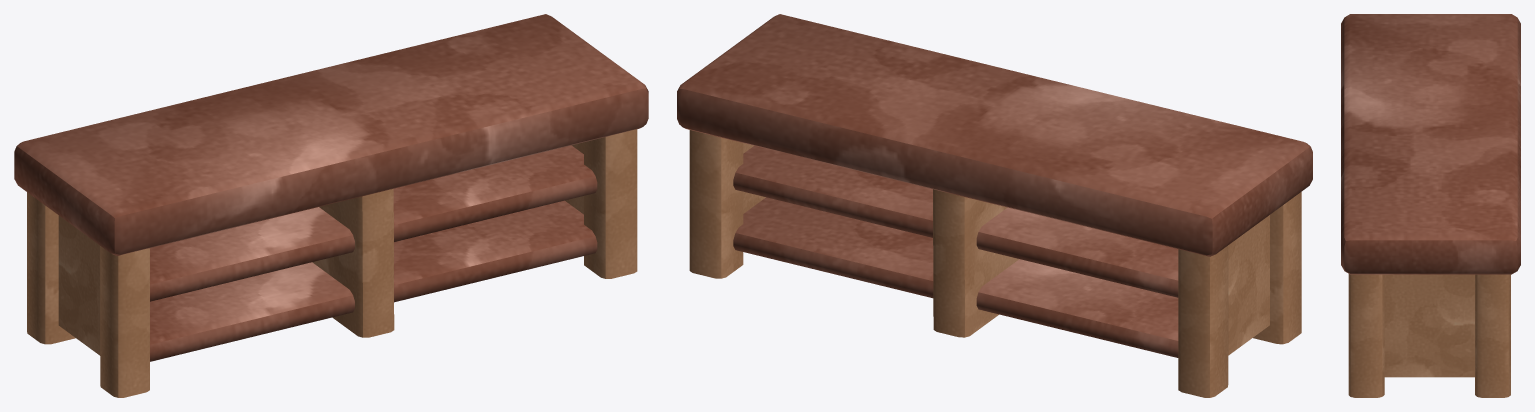
Rendered from SM_Table_Big.fbx.
3 views of the same model, side by side, from view 1: azimuth 30°, elevation 25°; view 2: azimuth 150°, elevation 25°; view 3: azimuth 270°, elevation 25° (orthographic). The views are drawn at different scales.
Visible parts, largest first — view 1: SM_Furniture_Large_02_pt1, SM_Furniture_Large_02_pt3, SM_Furniture_Large_02_pt2; view 2: SM_Furniture_Large_02_pt1, SM_Furniture_Large_02_pt3, SM_Furniture_Large_02_pt2; view 3: SM_Furniture_Large_02_pt3, SM_Furniture_Large_02_pt2, SM_Furniture_Large_02_pt1.
Boxes of the visible parts, bbox=[...] form: SM_Furniture_Large_02_pt1: bbox=[14, 99, 296, 397]; SM_Furniture_Large_02_pt3: bbox=[372, 14, 648, 286]; SM_Furniture_Large_02_pt2: bbox=[198, 56, 470, 337]; SM_Furniture_Large_02_pt1: bbox=[1030, 99, 1312, 397]; SM_Furniture_Large_02_pt3: bbox=[677, 14, 953, 283]; SM_Furniture_Large_02_pt2: bbox=[855, 56, 1128, 337]; SM_Furniture_Large_02_pt3: bbox=[1341, 161, 1520, 397]; SM_Furniture_Large_02_pt2: bbox=[1341, 87, 1520, 169]; SM_Furniture_Large_02_pt1: bbox=[1341, 14, 1520, 96].
Bounding box in the file's own units: 299 × 99.94 × 99.7.
1 material, 1 textured.
